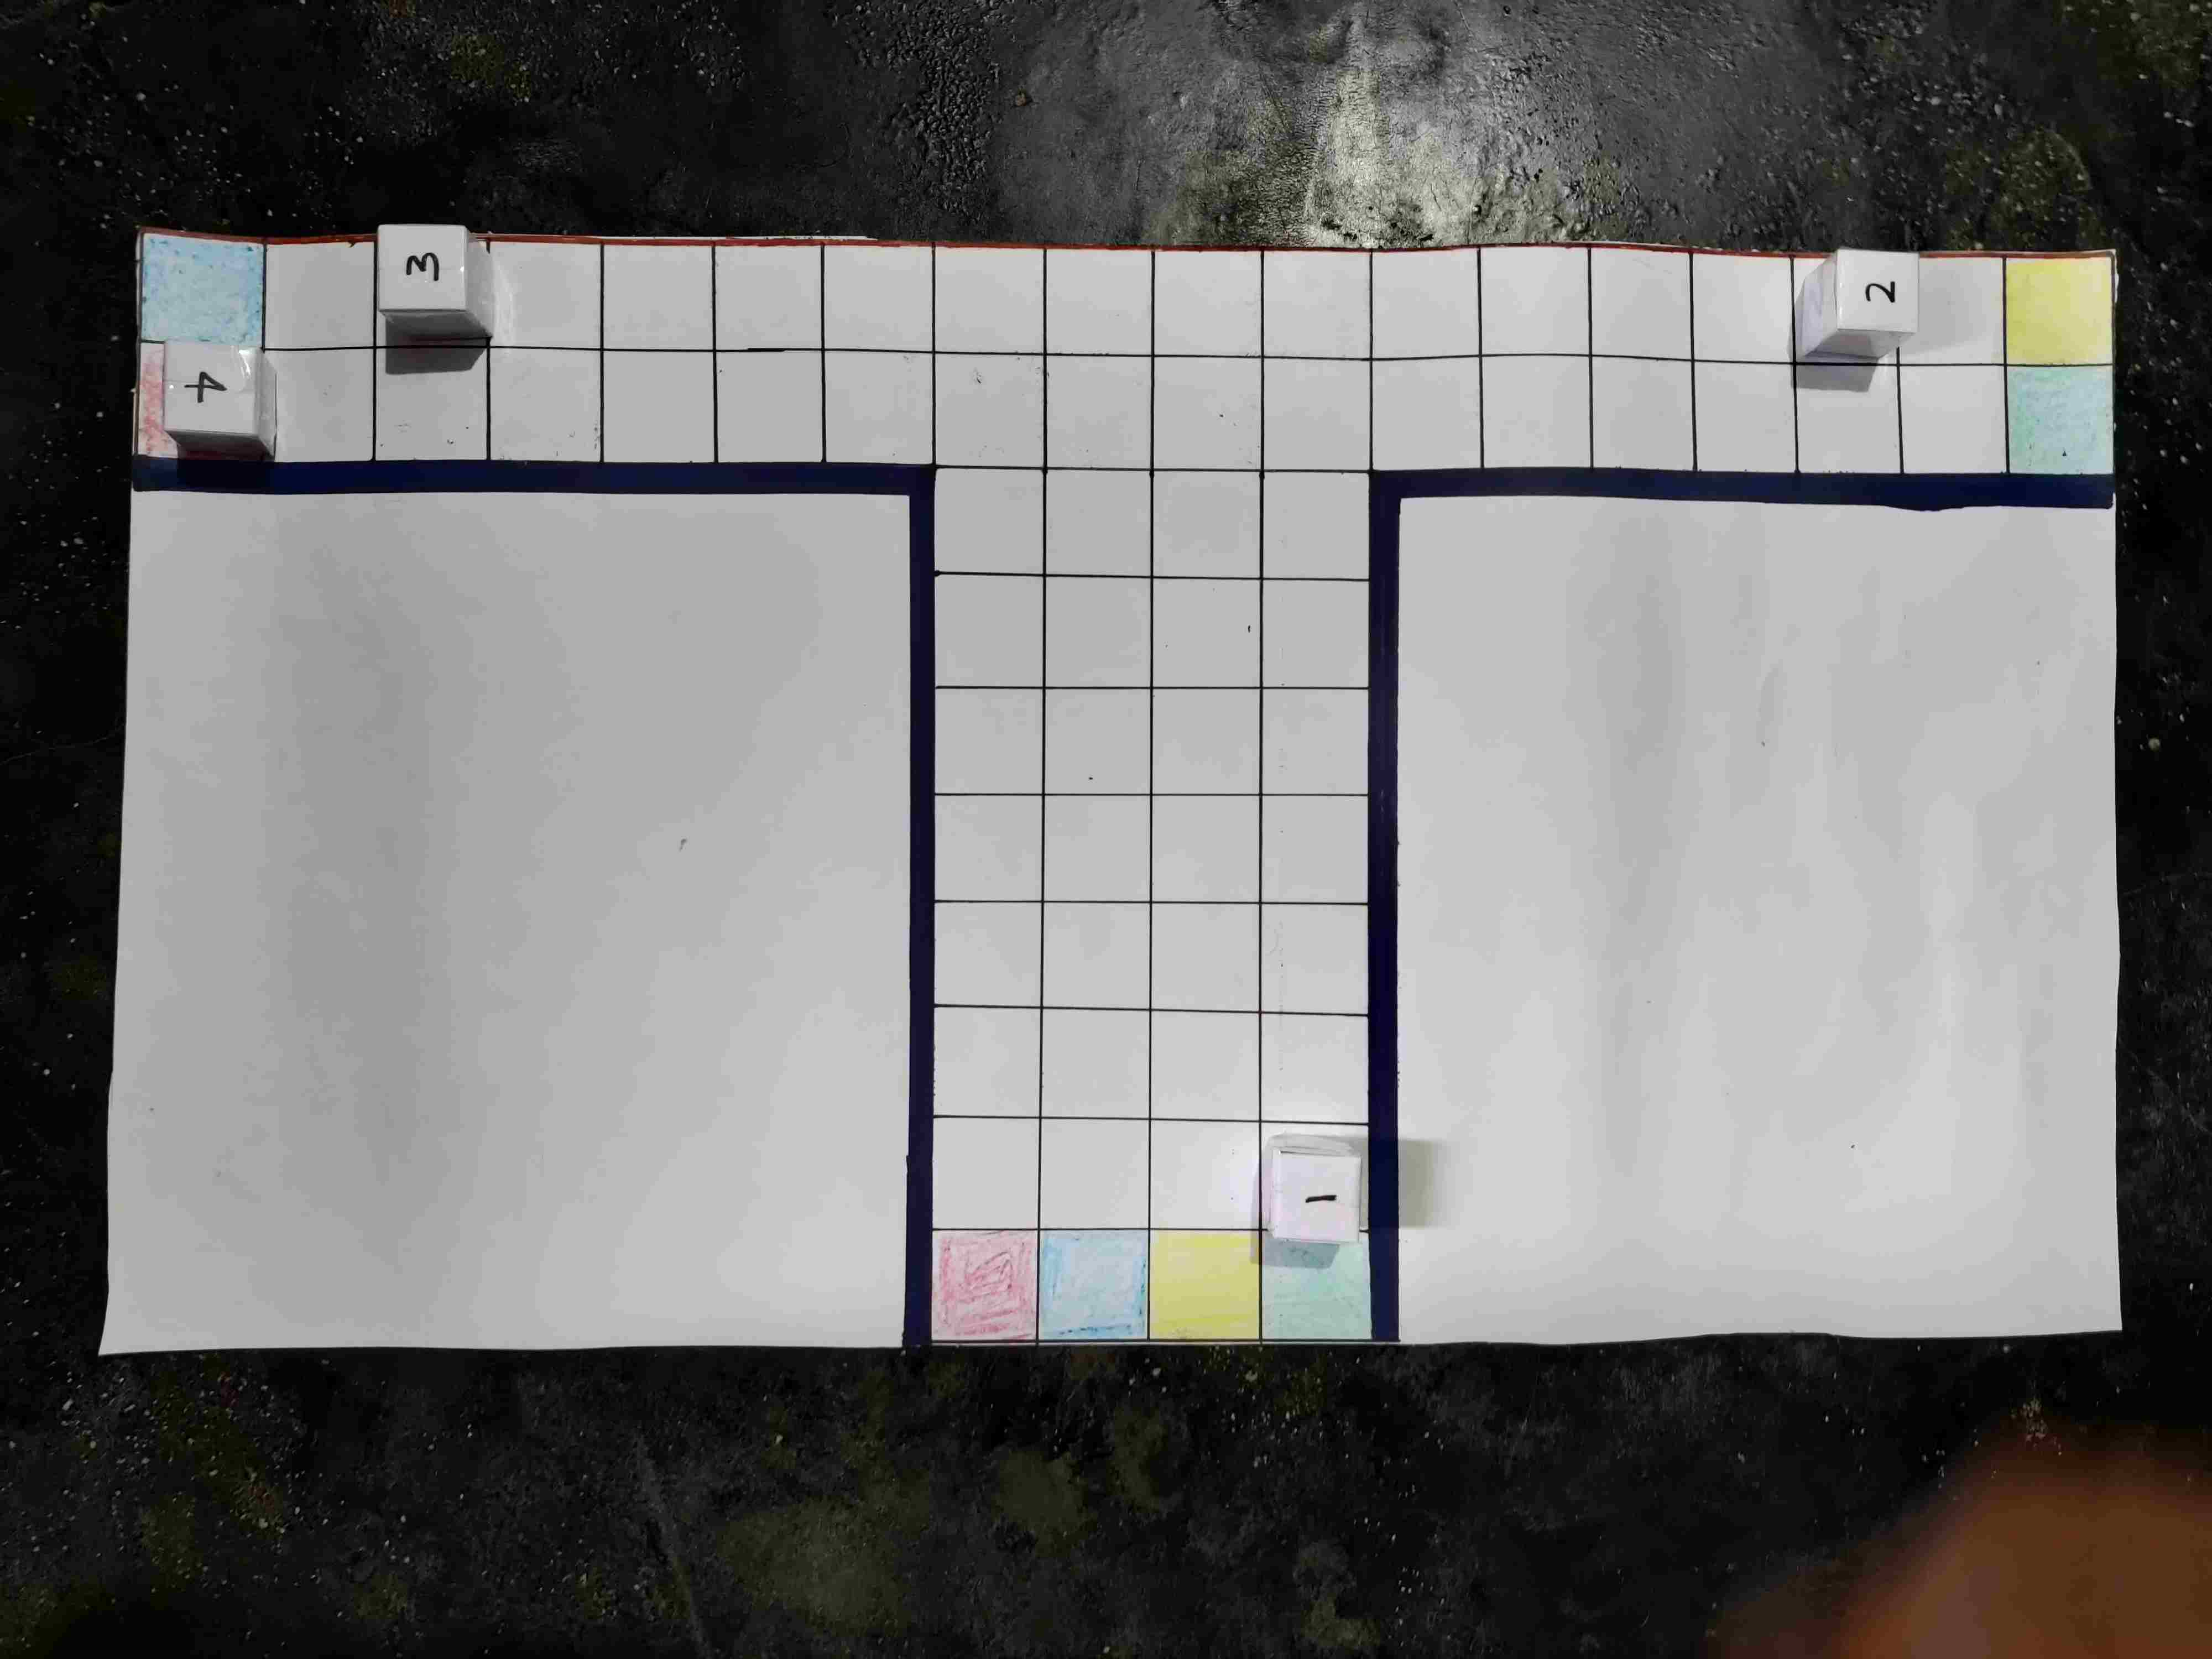arena: (242, 338, 2069, 1450)
bot: (1251, 904, 1339, 985), (1139, 793, 1224, 873), (949, 570, 1031, 650), (1042, 694, 1127, 769)
